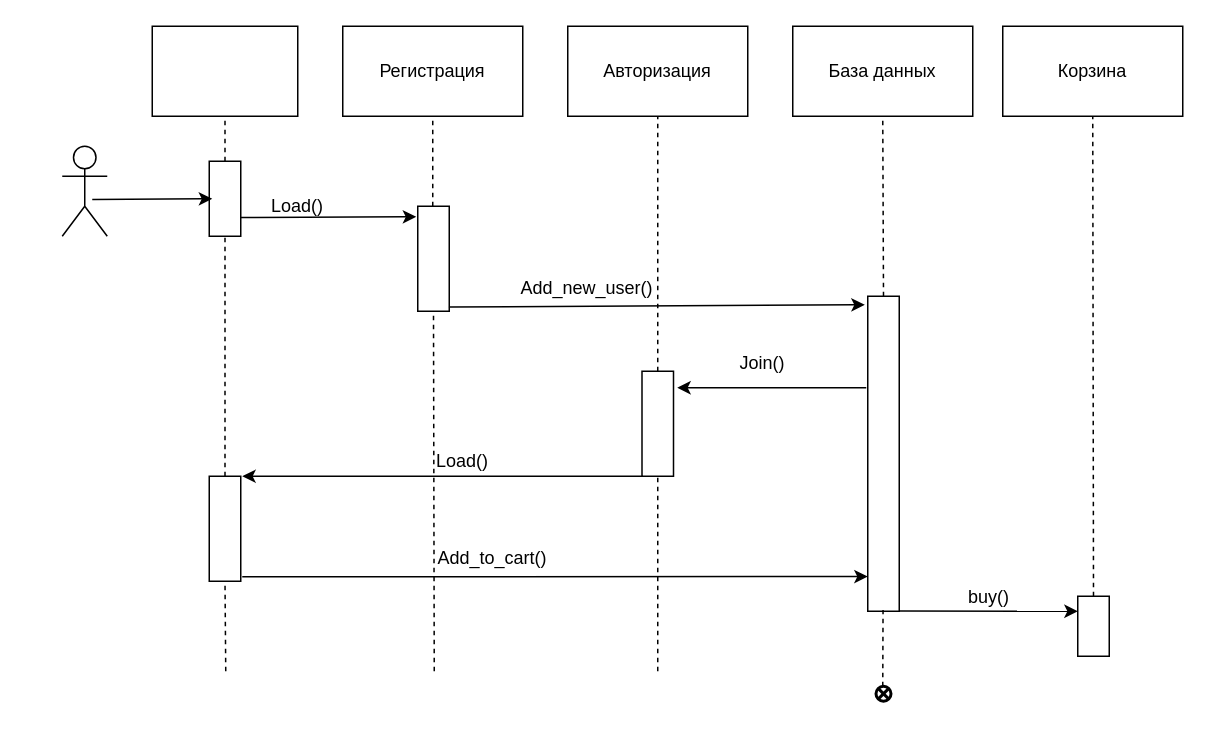
Image size: 1209x729. Some labels were removed from this diagram. Each missing label, with the centre of its shape:
Главная страница: the point at 224,70
Пользователь: the point at 84,190
